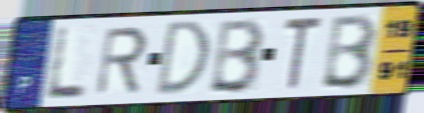B: (206, 16, 267, 96), (318, 12, 379, 92)
D: (153, 18, 213, 99)
L: (43, 25, 88, 102)
R: (93, 24, 150, 98)
T: (281, 15, 325, 93)
